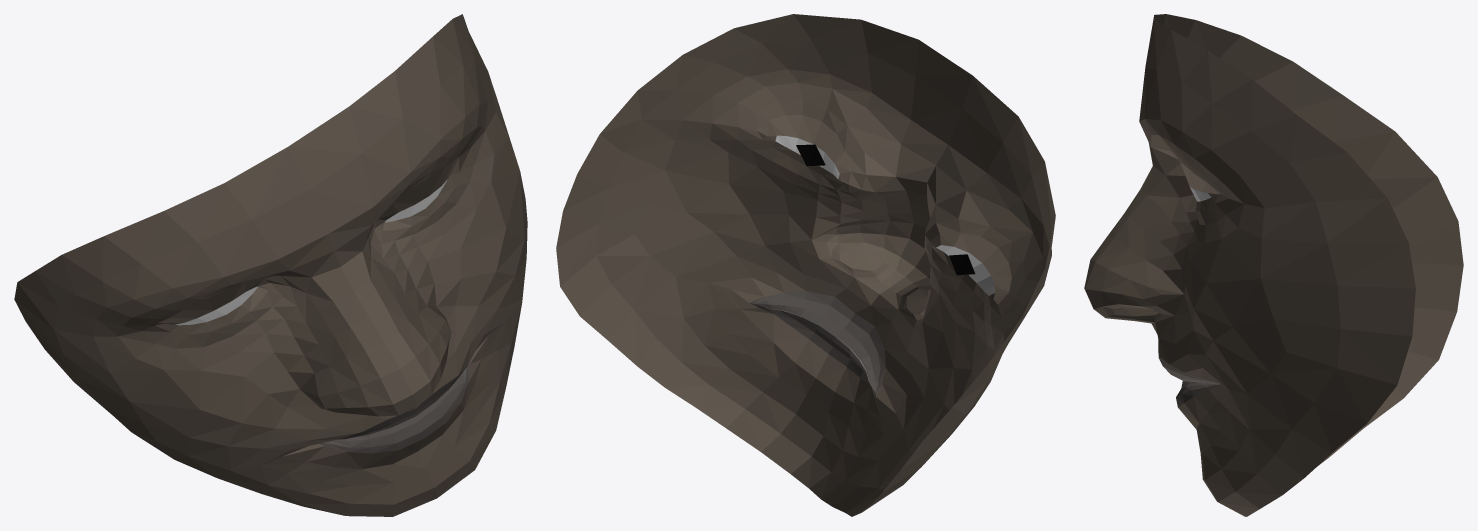
File: frame_00282.obj
3 views of the same model, side by side, from view 1: azimuth 30°, elevation 25°; view 2: azimuth 150°, elevation 25°; view 3: azimuth 270°, elevation 25° (orthographic). The views are drawn at different scales.
Parts seen in each view (by area): view 1: face_model_with_iris; view 2: face_model_with_iris; view 3: face_model_with_iris.
Part boxes in pixels (x1,y1,x2,y2): face_model_with_iris: [14, 14, 527, 516]; face_model_with_iris: [556, 14, 1055, 516]; face_model_with_iris: [1084, 14, 1463, 516].
Bounding box in the file's own units: 0.5607 × 0.5401 × 0.3947.
